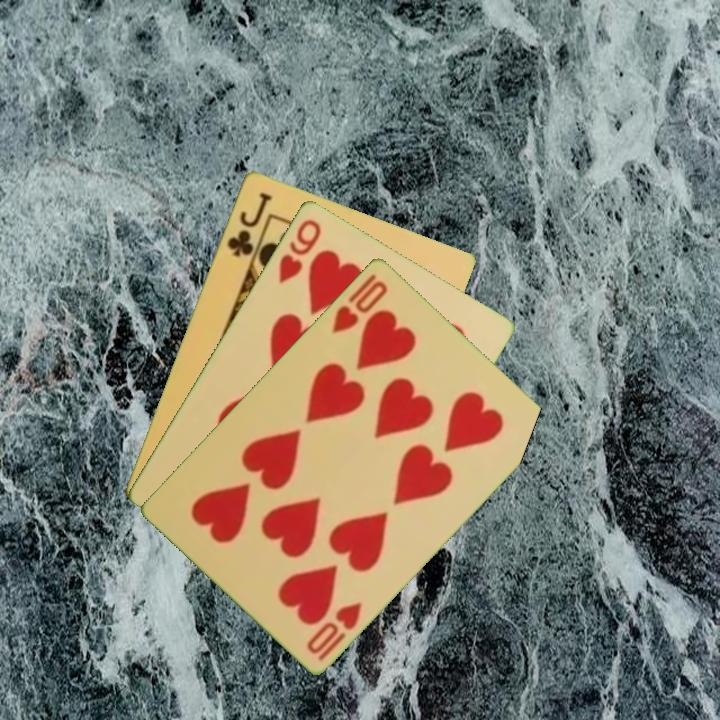10h: (328, 269, 391, 336), (302, 597, 365, 664)
9h: (275, 215, 324, 286)
Jc: (223, 188, 275, 259)
